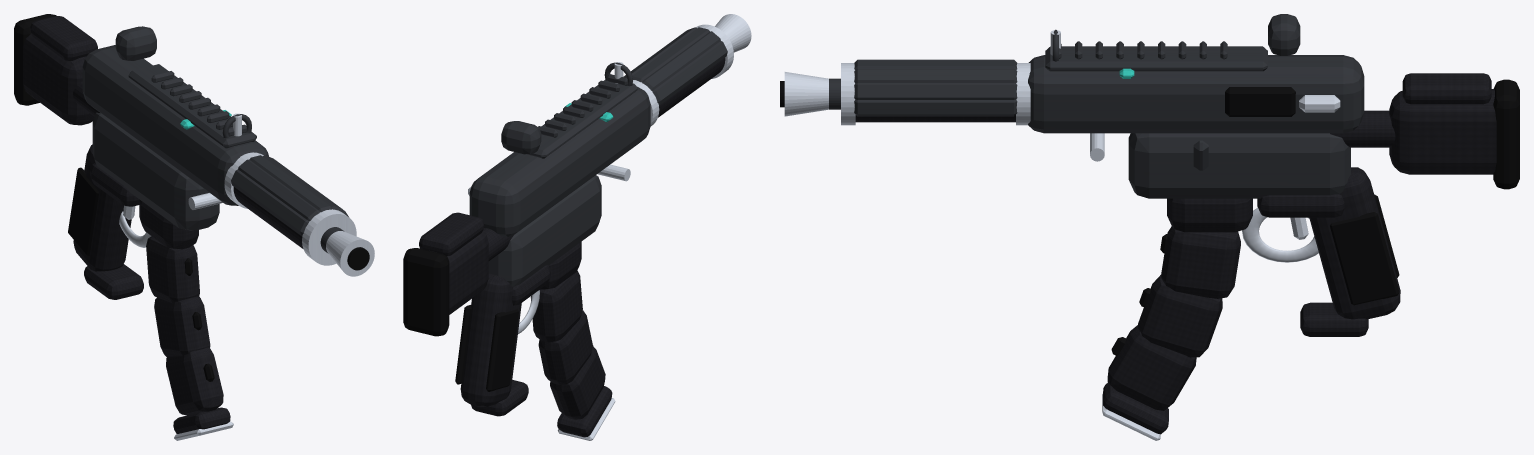
Rendered from wep_smg.glb.
The picture shows the model from 3 angles, left to right: view 1: azimuth 30°, elevation 25°; view 2: azimuth 150°, elevation 25°; view 3: azimuth 270°, elevation 25°; orthographic projection. The views are drawn at different scales.
Parts seen in each view (by area): view 1: wep_smg_upper, wep_smg_lower, wep_smg_stock, wep_smg_mag_seg2, wep_smg_grip, wep_smg_mag_seg0, wep_smg_mag_seg1, wep_smg_rail_base, wep_smg_cheek_rest, wep_smg_grip_panel_l, wep_smg_shroud_band_front, wep_smg_shroud_rib5 (+16 smaller); view 2: wep_smg_upper, wep_smg_lower, wep_smg_grip, wep_smg_butt_pad, wep_smg_mag_seg0, wep_smg_stock, wep_smg_mag_seg1, wep_smg_mag_seg2, wep_smg_grip_panel_l, wep_smg_rail_base, wep_smg_cheek_rest, wep_smg_shroud_rib5 (+17 smaller); view 3: wep_smg_upper, wep_smg_lower, wep_smg_stock, wep_smg_rail_base, wep_smg_mag_seg0, wep_smg_mag_seg2, wep_smg_mag_seg1, wep_smg_grip_panel_r, wep_smg_grip, wep_smg_magwell, wep_smg_cheek_rest, wep_smg_shroud_rib1 (+15 smaller).
Part boxes in pixels (x1,y1,x2,y2): wep_smg_upper: [82, 45, 268, 205]; wep_smg_lower: [92, 112, 219, 230]; wep_smg_stock: [23, 33, 94, 125]; wep_smg_mag_seg2: [166, 347, 223, 415]; wep_smg_grip: [73, 144, 131, 271]; wep_smg_mag_seg0: [146, 236, 199, 302]; wep_smg_mag_seg1: [154, 296, 210, 356]; wep_smg_rail_base: [128, 64, 256, 148]; wep_smg_cheek_rest: [30, 16, 97, 60]; wep_smg_grip_panel_l: [68, 167, 98, 256]; wep_smg_shroud_band_front: [302, 209, 356, 265]; wep_smg_shroud_rib5: [231, 169, 308, 236]; wep_smg_upper: [469, 86, 650, 237]; wep_smg_lower: [488, 175, 601, 286]; wep_smg_grip: [460, 273, 521, 406]; wep_smg_butt_pad: [403, 248, 449, 336]; wep_smg_mag_seg0: [530, 270, 582, 342]; wep_smg_stock: [429, 230, 488, 314]; wep_smg_mag_seg1: [538, 310, 592, 384]; wep_smg_mag_seg2: [550, 346, 605, 419]; wep_smg_grip_panel_l: [486, 309, 518, 391]; wep_smg_rail_base: [527, 80, 637, 158]; wep_smg_cheek_rest: [419, 212, 484, 256]; wep_smg_shroud_rib5: [652, 41, 727, 105]; wep_smg_upper: [1028, 55, 1364, 133]; wep_smg_lower: [1128, 133, 1350, 198]; wep_smg_stock: [1389, 89, 1496, 174]; wep_smg_rail_base: [1045, 46, 1267, 71]; wep_smg_mag_seg0: [1161, 226, 1240, 298]; wep_smg_mag_seg2: [1107, 325, 1196, 410]; wep_smg_mag_seg1: [1138, 274, 1222, 357]; wep_smg_grip_panel_r: [1330, 212, 1399, 305]; wep_smg_grip: [1309, 167, 1400, 319]; wep_smg_magwell: [1167, 198, 1252, 232]; wep_smg_cheek_rest: [1402, 73, 1491, 104]; wep_smg_shroud_rib1: [854, 83, 1017, 99].
Bounding box in the file's own units: 0.053 × 0.3076 × 0.499.
Materials: 6 (6 with a texture image).
